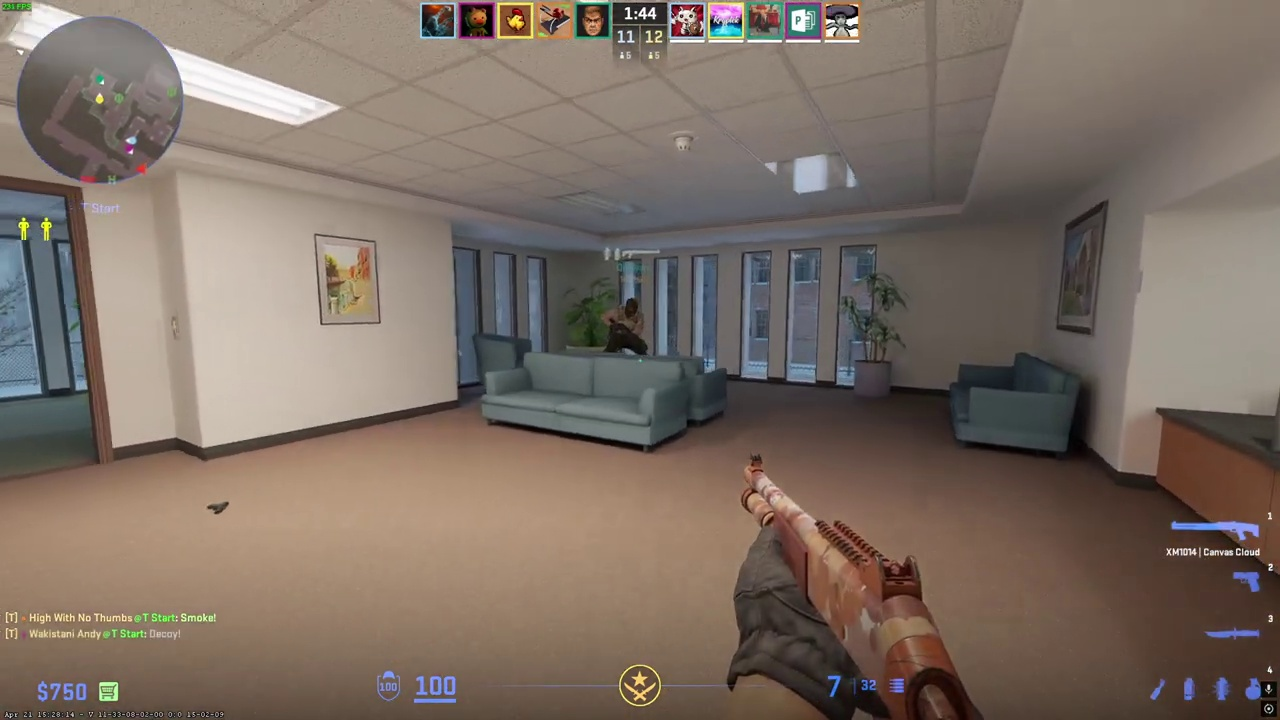Terrorist: (604, 298, 648, 355)
